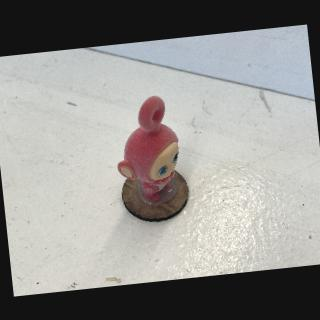teletubby: (117, 96, 178, 201)
